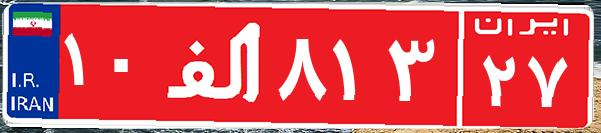0: (110, 28, 158, 105)
1: (330, 28, 385, 110), (57, 26, 110, 107)
2: (475, 38, 525, 113)
3: (385, 28, 445, 110)
7: (525, 38, 570, 115)
8: (273, 28, 330, 110)
الف: (158, 15, 273, 115)
